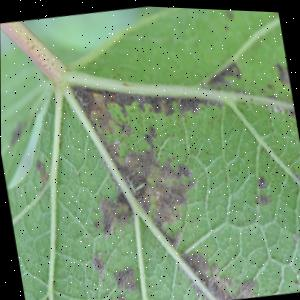Folha: (0, 0, 300, 300)
Fungo: (61, 61, 257, 300), (83, 116, 202, 243), (71, 63, 224, 133), (178, 239, 255, 300), (91, 164, 154, 238), (142, 153, 201, 232), (179, 247, 213, 298), (203, 57, 242, 89), (148, 189, 177, 230), (95, 192, 120, 237), (129, 175, 151, 216), (111, 263, 137, 293), (249, 171, 271, 205), (4, 118, 29, 147), (155, 153, 178, 182), (112, 200, 133, 229), (89, 249, 106, 281), (176, 93, 199, 115), (273, 58, 290, 87), (32, 157, 48, 185), (121, 264, 136, 290), (173, 159, 192, 179), (136, 190, 151, 215), (110, 268, 124, 289), (254, 190, 270, 204), (206, 260, 219, 276), (254, 171, 266, 187), (144, 122, 156, 138), (291, 165, 300, 186), (114, 290, 130, 300), (122, 264, 133, 278), (91, 217, 99, 231), (290, 228, 298, 241)
